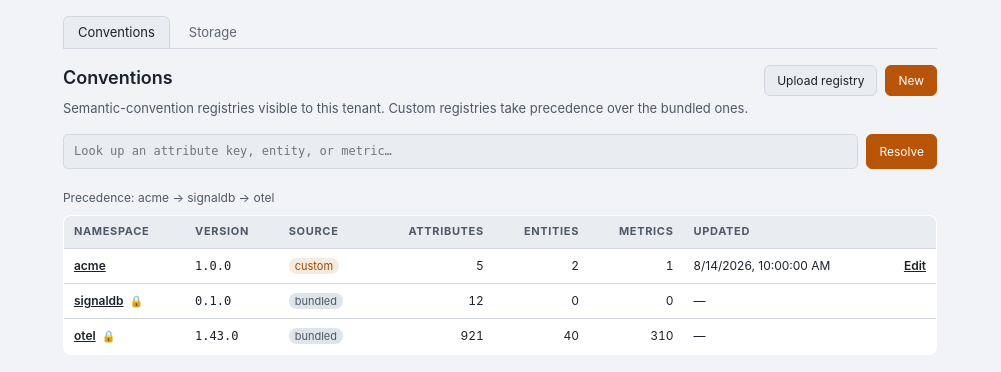
Test case: SchemaHub › offers the Storage tab to an instance admin and switches on click
Click the tab "Storage": (213, 32) [189,24,237,40]
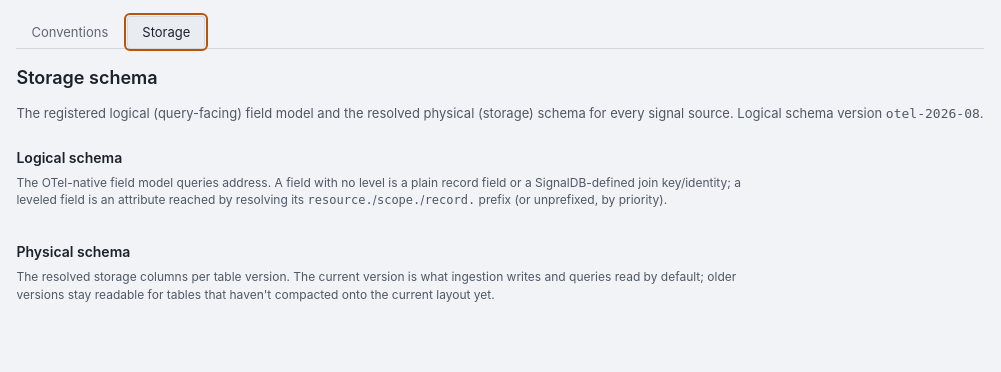
Result: the heading "Logical schema" is shown at [16,149,122,166]
